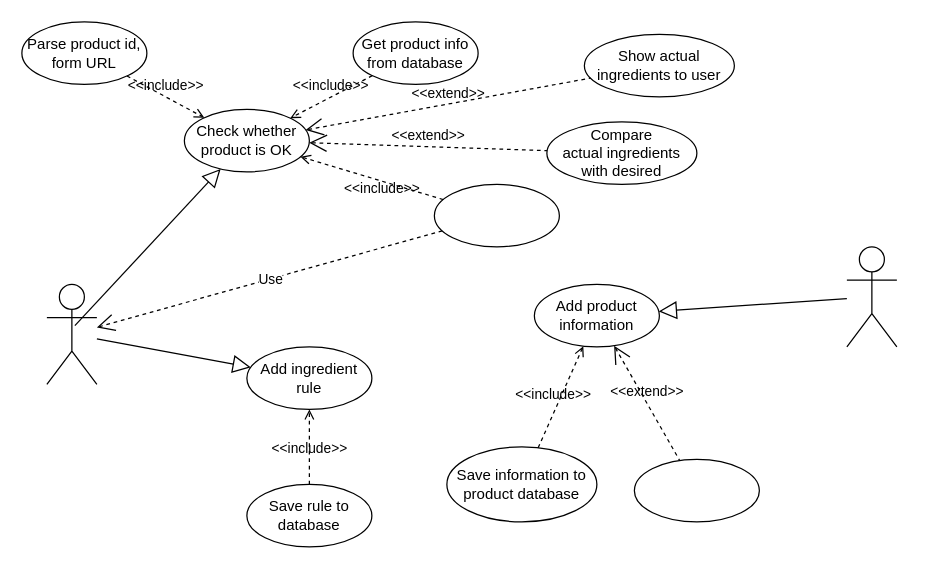
Some shapes in this 929 by 569 pixel diagram are drawn without their labels. The shapes that lost their labels are listed below. From the top down, each one's centre as x and y in pixels, then its label:
At (496,215): "Scan QR code".
At (871,296): "Database maintainer".
At (71,333): "User".
At (696,490): "Parse file with multiple products".
